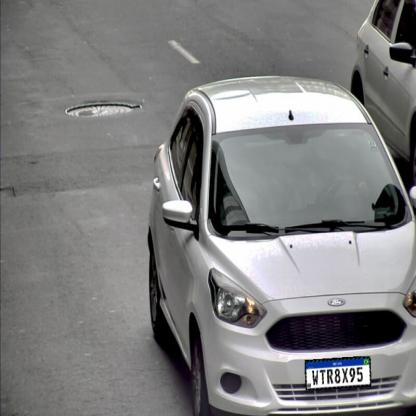PlacaM: (305, 356, 371, 390)
